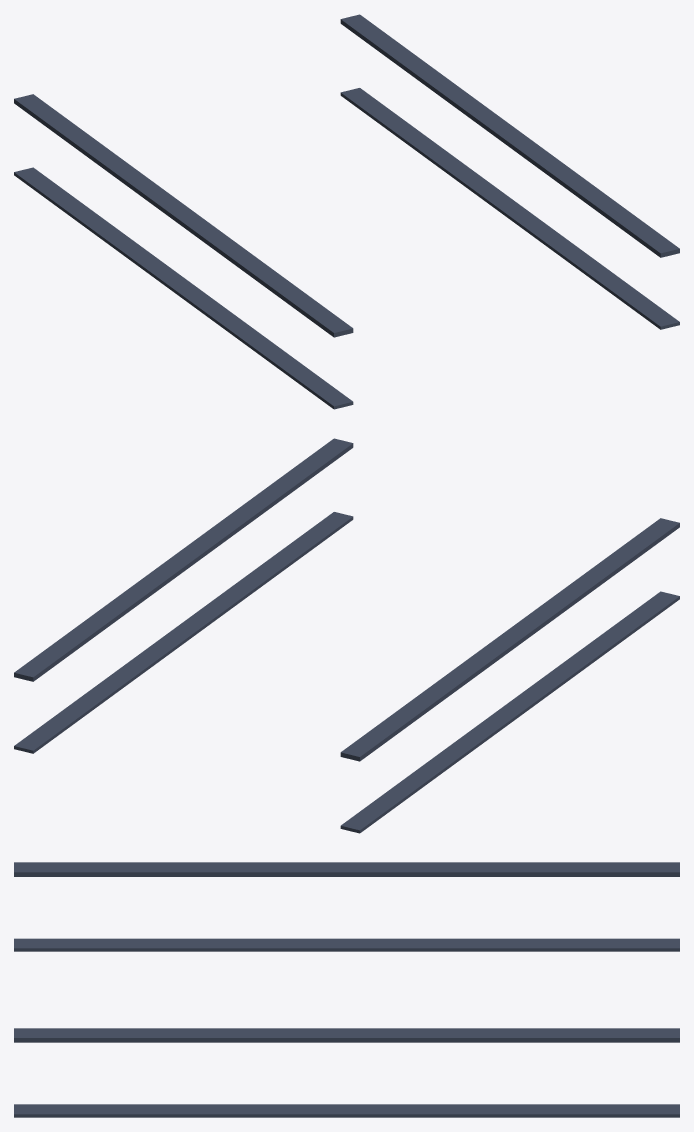
Rendered from AlcoveFrames_Trim.fbx.
3 renders of one model, top to bottom at view 1: azimuth 30°, elevation 25°; view 2: azimuth 150°, elevation 25°; view 3: azimuth 270°, elevation 25°, orthographic. The views are drawn at different scales.
Visible parts, largest first — view 1: Cornice-1.001; view 2: Cornice-1.001; view 3: Cornice-1.001.
Boxes of the visible parts, box(x1,y1,x2,y2) form: Cornice-1.001: box(14, 14, 679, 409); Cornice-1.001: box(14, 438, 679, 833); Cornice-1.001: box(14, 862, 679, 1117).
Size of the model in its own units: 16100 by 3400 by 25800.
